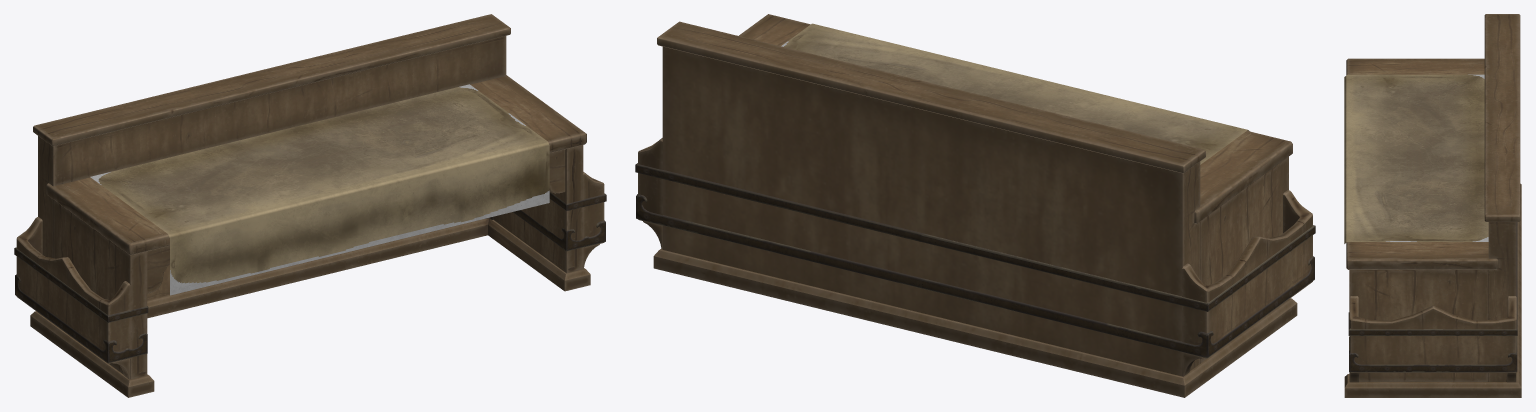
The model's file is SM_LargeDesk_00.fbx.
3 views of the same model, side by side, from view 1: azimuth 30°, elevation 25°; view 2: azimuth 150°, elevation 25°; view 3: azimuth 270°, elevation 25° (orthographic). The views are drawn at different scales.
Parts seen in each view (by area): view 1: Storage_low1; view 2: Storage_low1; view 3: Storage_low1.
Boxes of the visible parts, left/top/right/bottom form: Storage_low1: left=14, top=14, right=606, bottom=397; Storage_low1: left=635, top=14, right=1315, bottom=397; Storage_low1: left=1344, top=14, right=1521, bottom=397.
Size of the model in its own units: 375 by 144 by 128.
Materials: 1 (1 with a texture image).
